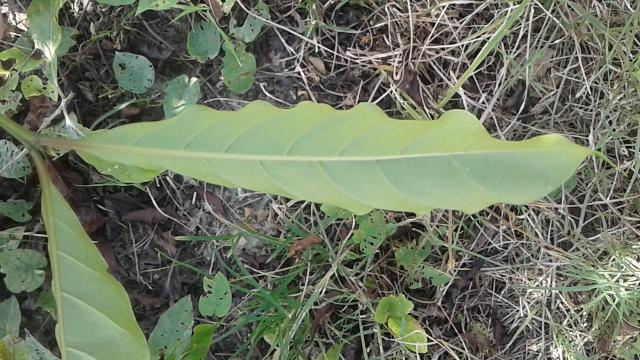healthy: (44, 99, 630, 214)
